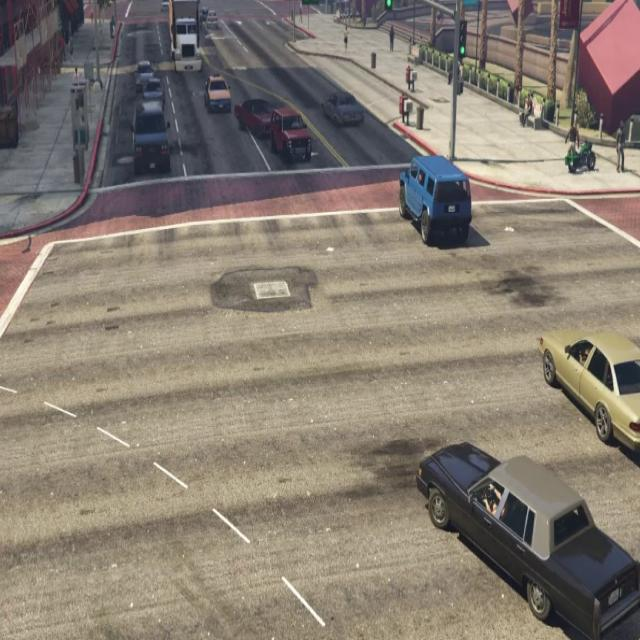Green-Signal: (456, 12, 469, 72), (382, 0, 397, 22), (299, 0, 322, 12)
